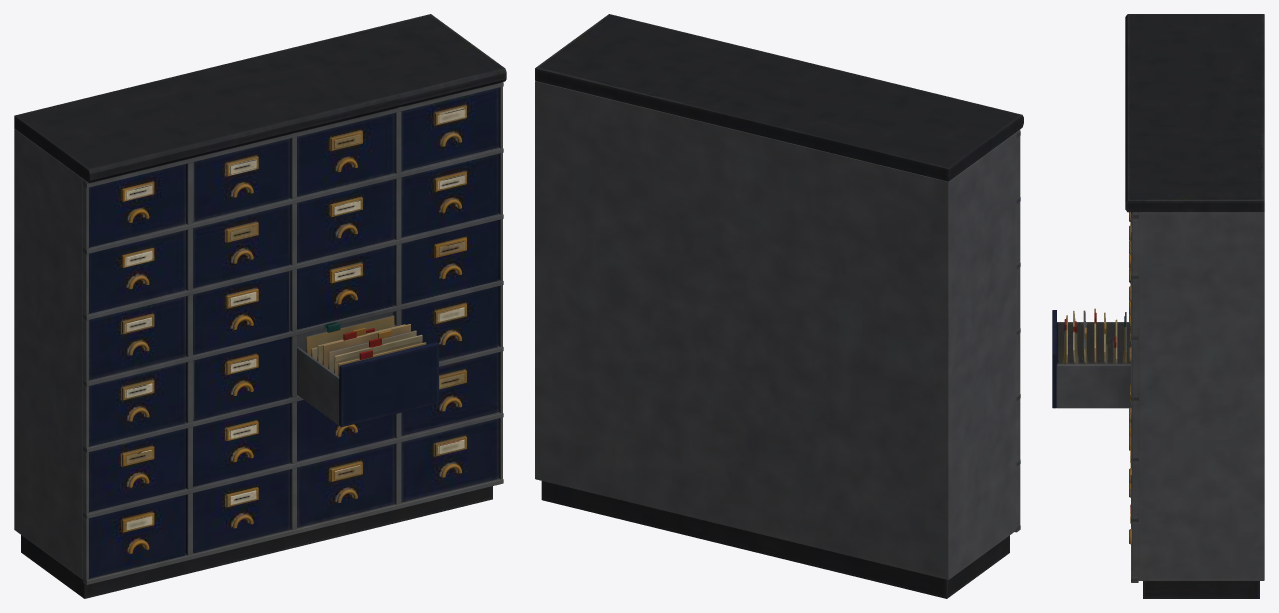
File: filing_cabinets.glb
3 views of the same model, side by side, from view 1: azimuth 30°, elevation 25°; view 2: azimuth 150°, elevation 25°; view 3: azimuth 270°, elevation 25° (orthographic). The views are drawn at different scales.
Visible parts, largest first — view 1: filing_cabinets; view 2: filing_cabinets; view 3: filing_cabinets.
Part boxes in pixels (x1,y1,x2,y2): filing_cabinets: [14, 14, 506, 598]; filing_cabinets: [535, 14, 1023, 598]; filing_cabinets: [1052, 14, 1264, 598].
Bounding box in the file's own units: 2 × 2 × 0.96.
Materials: 2 (2 with a texture image).
